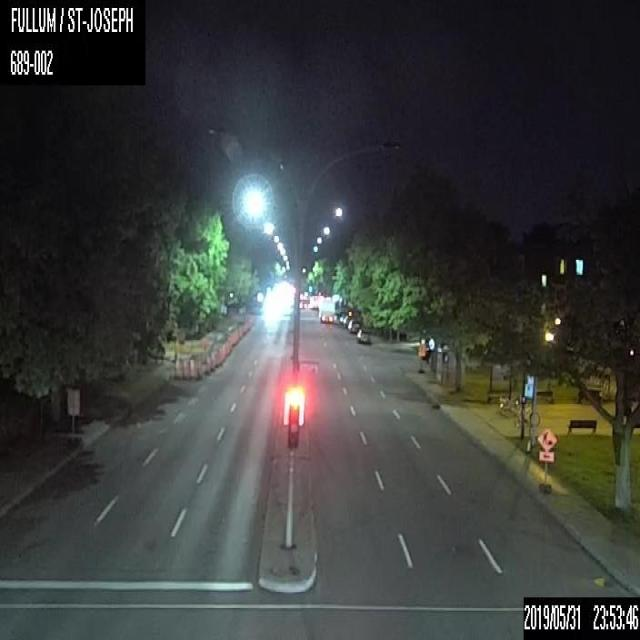construction: (536, 425, 558, 491), (417, 343, 425, 372), (171, 356, 180, 380), (194, 358, 202, 380), (187, 358, 194, 380), (180, 358, 187, 379), (203, 354, 210, 374)
vehicle: (356, 328, 371, 344), (347, 318, 362, 333), (320, 309, 333, 323), (298, 298, 308, 310)
